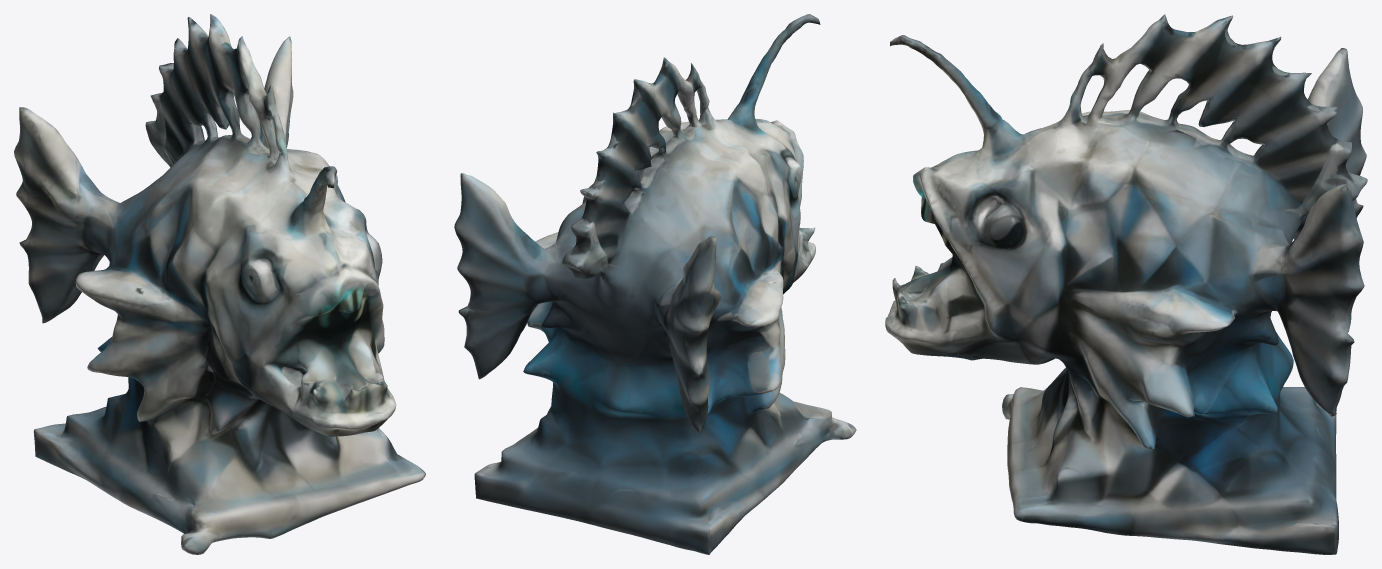
The model's file is Screenshot_2024_07_04_005041_0703230846.fbx.
The picture shows the model from 3 angles, left to right: view 1: azimuth 30°, elevation 25°; view 2: azimuth 150°, elevation 25°; view 3: azimuth 270°, elevation 25°; orthographic projection. The views are drawn at different scales.
Parts seen in each view (by area): view 1: Mesh_0; view 2: Mesh_0; view 3: Mesh_0.
Boxes of the visible parts, left/top/right/bottom form: Mesh_0: left=14, top=14, right=425, bottom=554; Mesh_0: left=454, top=14, right=856, bottom=554; Mesh_0: left=885, top=14, right=1367, bottom=554.
Bounding box in the file's own units: 75.85 × 120 × 106.
Materials: 1 (1 with a texture image).
